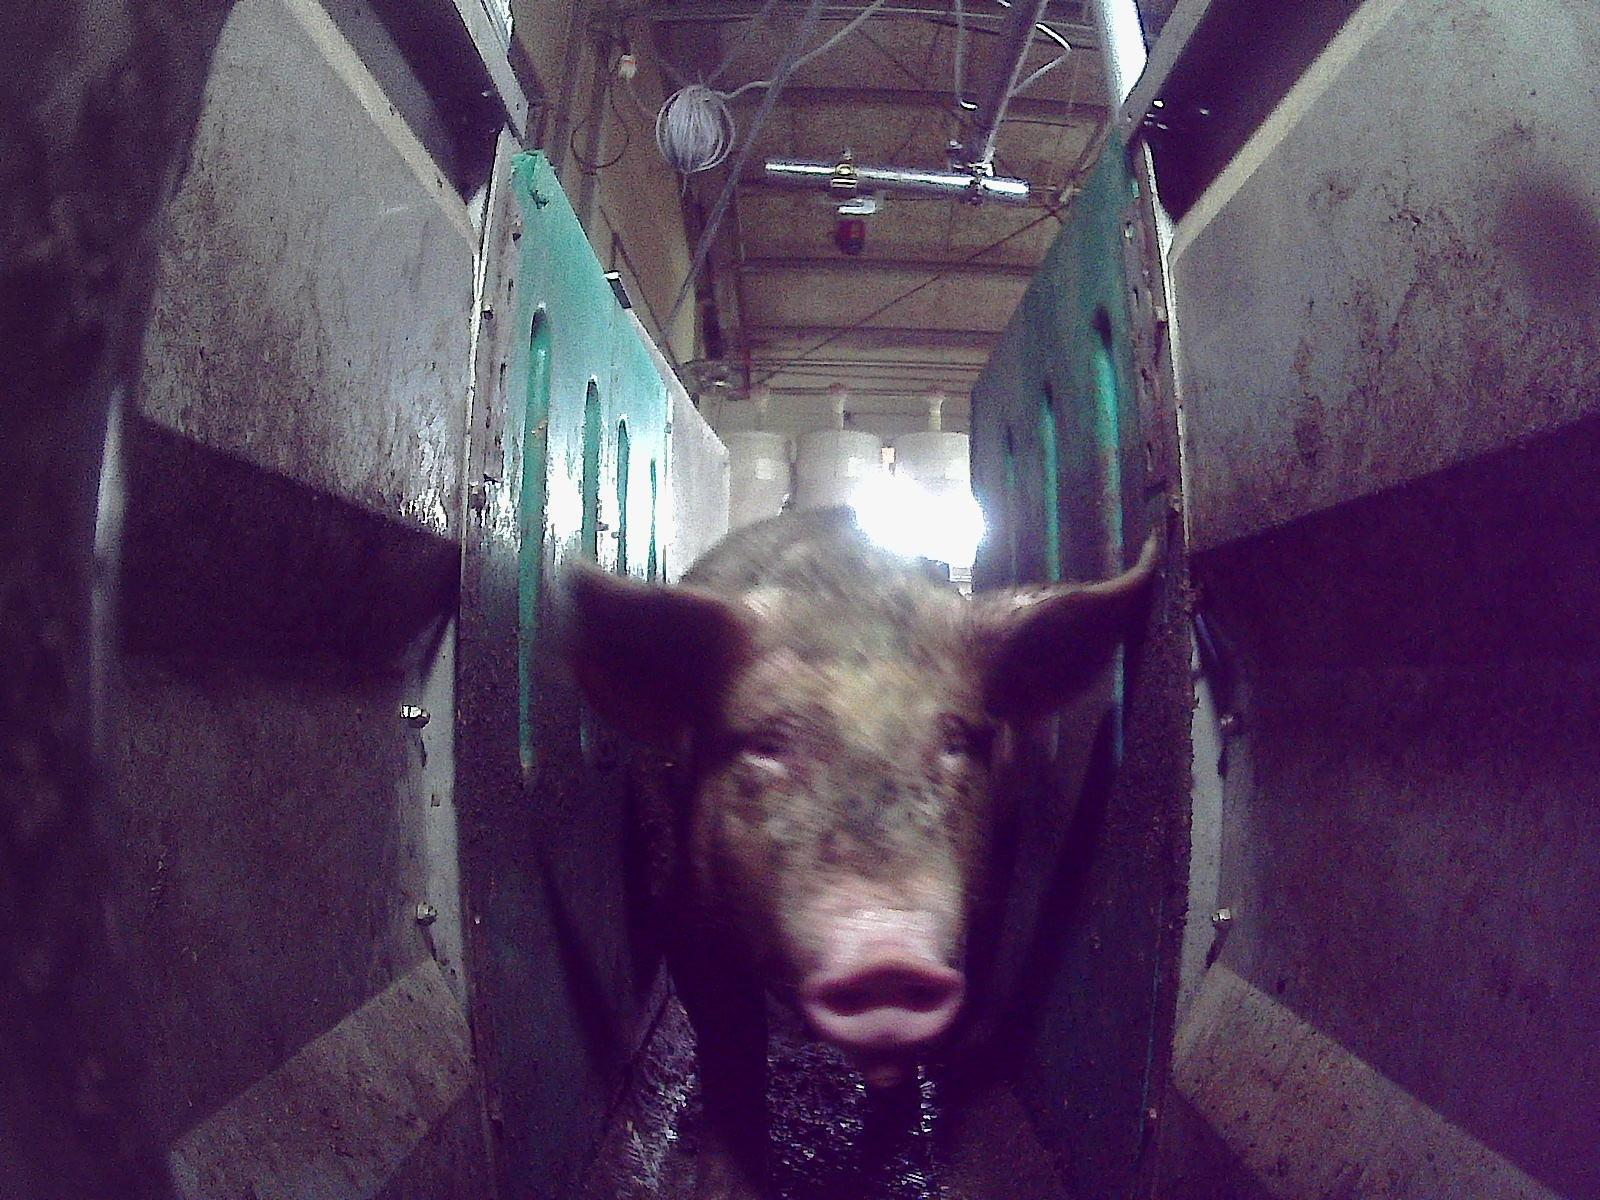Face: (699, 597, 992, 1057)
